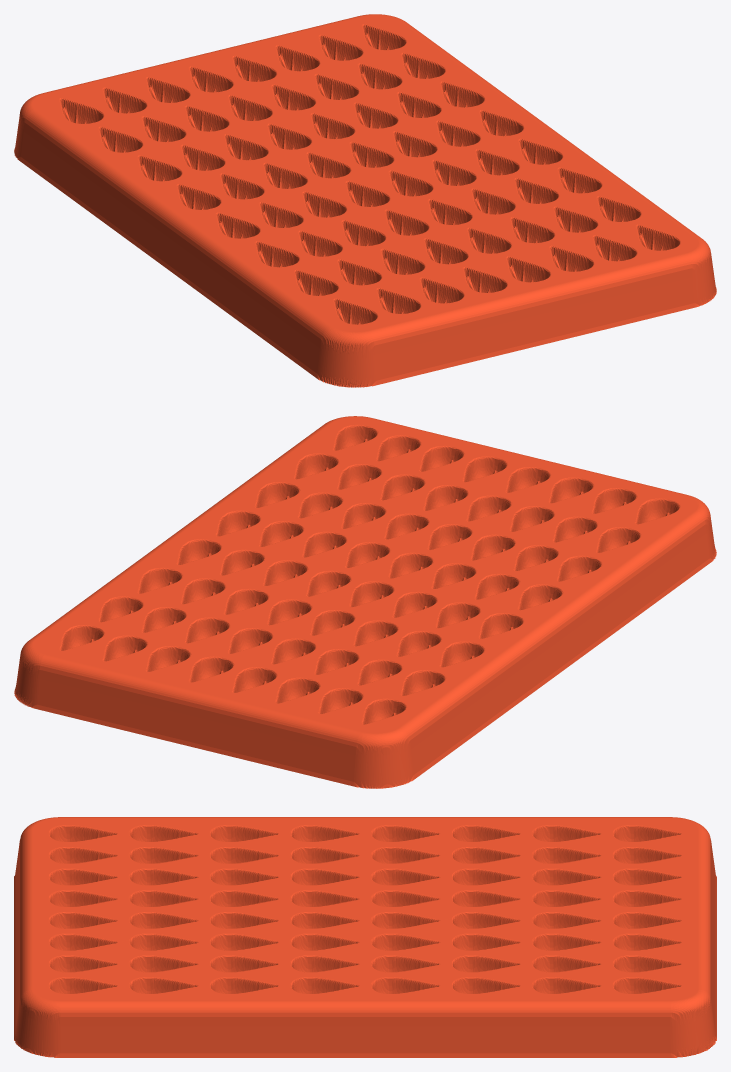
Rendered from mold.glb.
The picture shows the model from 3 angles, top to bottom: view 1: azimuth 30°, elevation 25°; view 2: azimuth 150°, elevation 25°; view 3: azimuth 270°, elevation 25°; orthographic projection. The views are drawn at different scales.
Parts seen in each view (by area): view 1: geometry_0; view 2: geometry_0; view 3: geometry_0.
Boxes of the visible parts, x1,y1,x2,y2 form: geometry_0: (14, 14, 716, 387); geometry_0: (14, 416, 716, 788); geometry_0: (14, 817, 716, 1057).
Bounding box in the file's own units: 0.0905 × 0.0105 × 0.1355.
